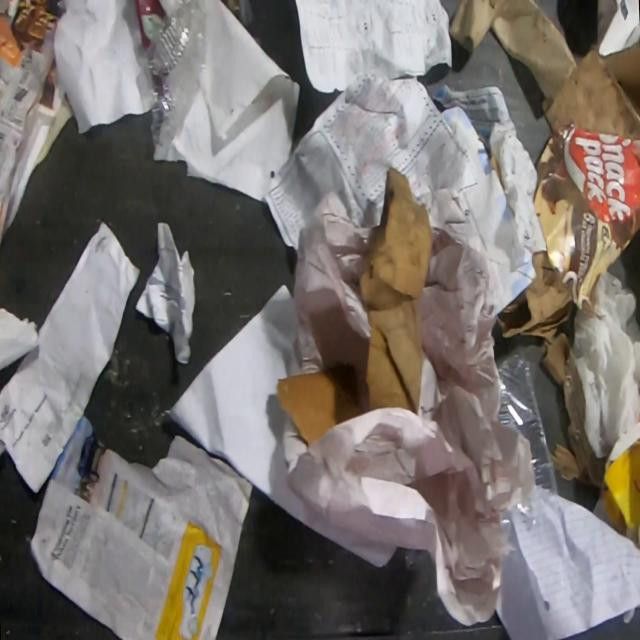cardboard: (532, 126, 640, 317), (359, 165, 433, 415), (449, 0, 578, 98), (539, 35, 640, 138), (276, 361, 363, 450), (496, 249, 574, 345), (600, 416, 640, 533)
rigid_plastic: (494, 348, 560, 544), (135, 0, 209, 163)
soft_plastic: (569, 269, 639, 461)
